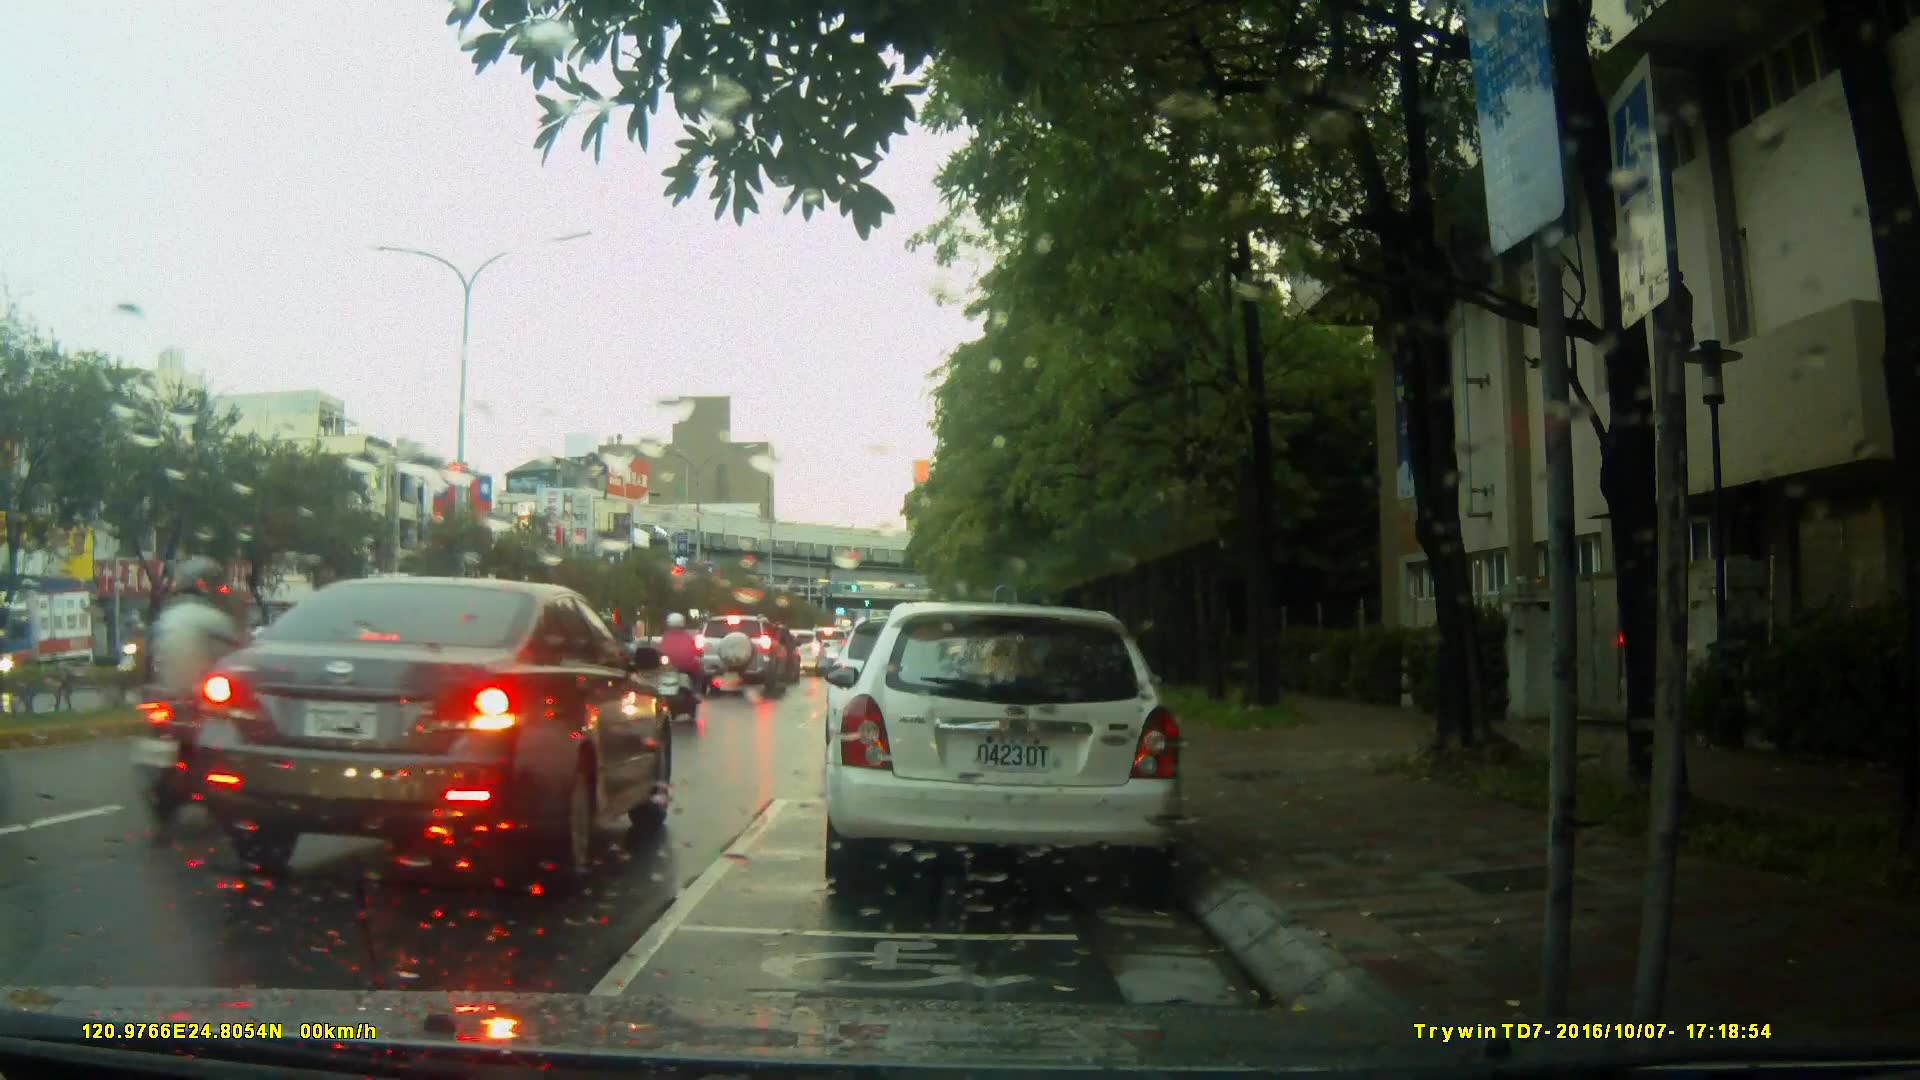rider: (138, 550, 292, 851), (660, 611, 705, 735)
vehicle: (190, 572, 677, 880), (820, 602, 1188, 898), (693, 614, 788, 698), (134, 634, 239, 689)
